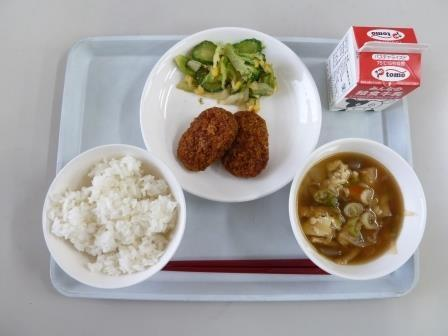Milk: (317, 16, 427, 108)
Rice: (46, 146, 185, 288)
Salad: (173, 33, 278, 105)
Soups: (283, 146, 415, 271)
cutlet: (173, 103, 288, 187)
